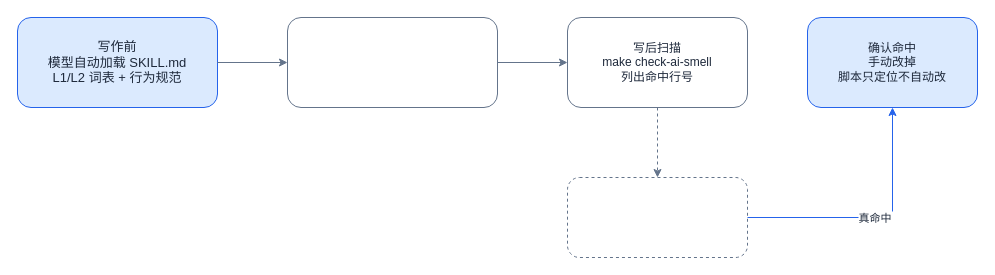
Some shapes in this 995 by 275 pixel diagram are drawn without their labels. Here are the shapes that lost their labels. From the top down, the box of each, then its label:
(286, 16, 498, 108): 写作中 禁词避开、破折号 ≤ 2 处 加粗每节 ≤ 2 处、禁排比句式
(566, 176, 748, 258): 人工判断 误报就跳过 （tags / 反讽 / 业务术语）
